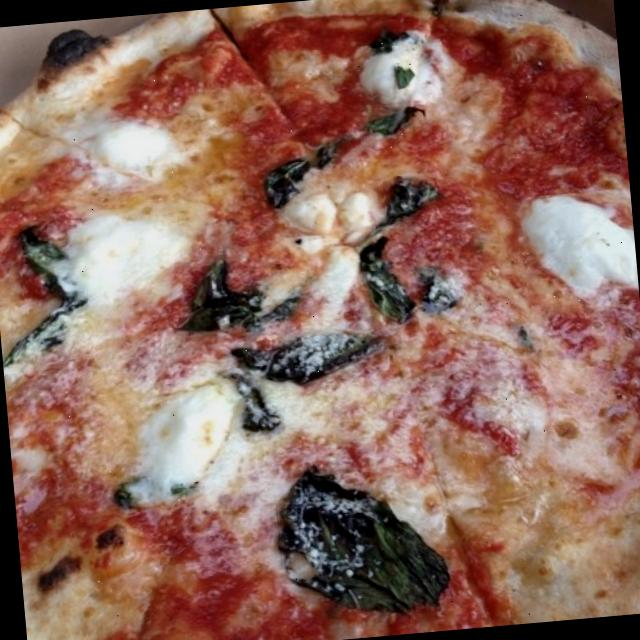basil: (274, 451, 452, 623), (185, 248, 298, 338), (239, 325, 390, 385), (250, 133, 366, 209), (17, 218, 89, 313), (0, 299, 95, 371), (358, 232, 419, 330), (224, 364, 287, 444), (382, 172, 439, 222), (358, 102, 428, 142), (410, 262, 466, 310), (395, 62, 420, 88)
cheese: (126, 369, 266, 496), (521, 188, 640, 311), (278, 188, 382, 317), (58, 203, 184, 309), (72, 109, 206, 190), (368, 42, 446, 114)
pizza: (0, 0, 640, 640)
